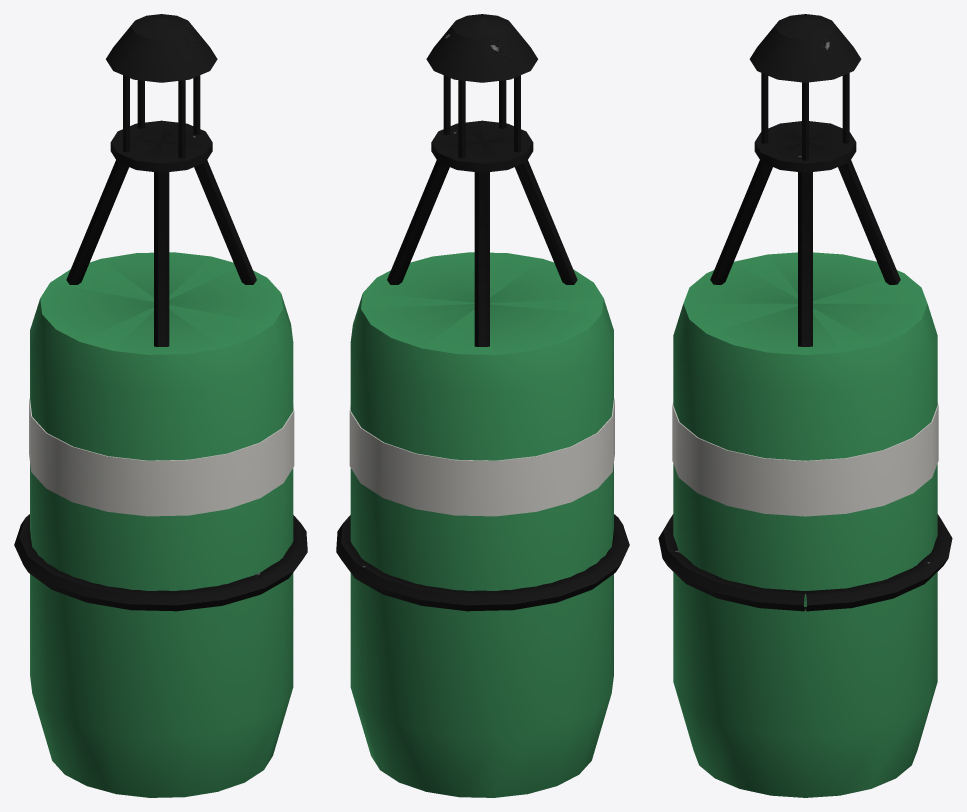
The model's file is buoy_green.glb.
3 views of the same model, side by side, from view 1: azimuth 30°, elevation 25°; view 2: azimuth 150°, elevation 25°; view 3: azimuth 270°, elevation 25° (orthographic).
Visible parts, largest first — view 1: boat_paint_green, boat_iron, boat_paint_white; view 2: boat_paint_green, boat_iron, boat_paint_white; view 3: boat_paint_green, boat_iron, boat_paint_white.
Part boxes in pixels (x1,y1,x2,y2): boat_paint_green: [30, 252, 293, 797]; boat_iron: [14, 14, 307, 611]; boat_paint_white: [29, 398, 294, 516]; boat_paint_green: [350, 252, 613, 797]; boat_iron: [336, 14, 629, 611]; boat_paint_white: [349, 398, 614, 516]; boat_paint_green: [673, 252, 937, 797]; boat_iron: [658, 14, 952, 611]; boat_paint_white: [672, 402, 938, 516].
Bounding box in the file's own units: 0.5758 × 1.59 × 0.578.
Materials: 3 (1 with a texture image).
